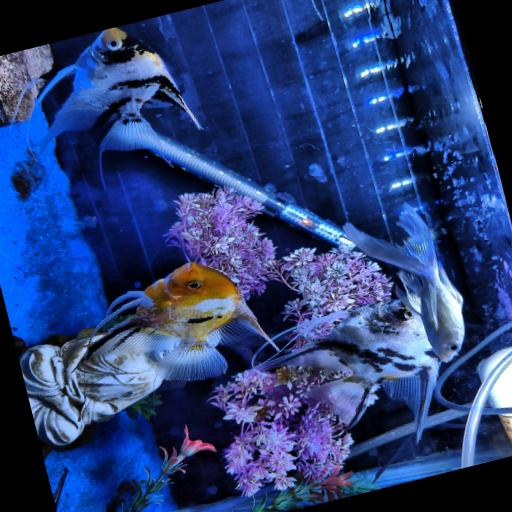Fish: (254, 299, 439, 441), (86, 262, 269, 380), (35, 28, 199, 152), (343, 204, 464, 362)
